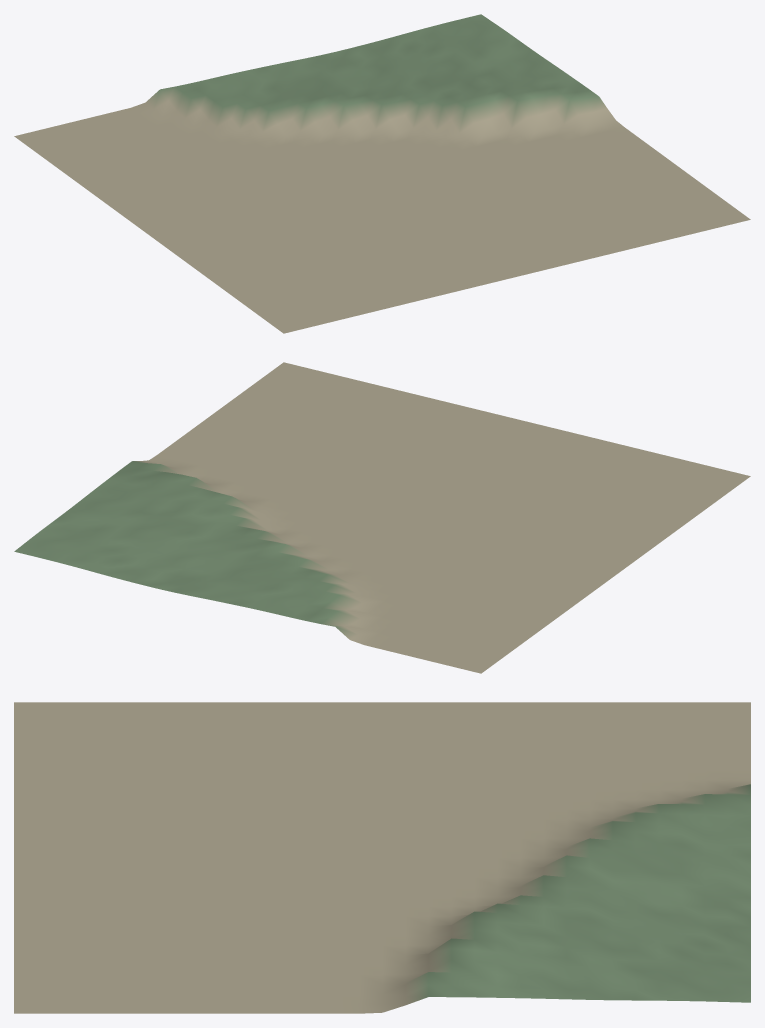
3 renders of one model, top to bottom at view 1: azimuth 30°, elevation 25°; view 2: azimuth 150°, elevation 25°; view 3: azimuth 270°, elevation 25°, orthographic. The views are drawn at different scales.
Parts seen in each view (by area): view 1: Terrain-col; view 2: Terrain-col; view 3: Terrain-col.
Boxes of the visible parts, x1=… form: Terrain-col: x1=14, y1=14, x2=750, y2=333; Terrain-col: x1=14, y1=362, x2=750, y2=673; Terrain-col: x1=14, y1=702, x2=750, y2=1013.
Bounding box in the file's own units: 256 × 10.19 × 256.
